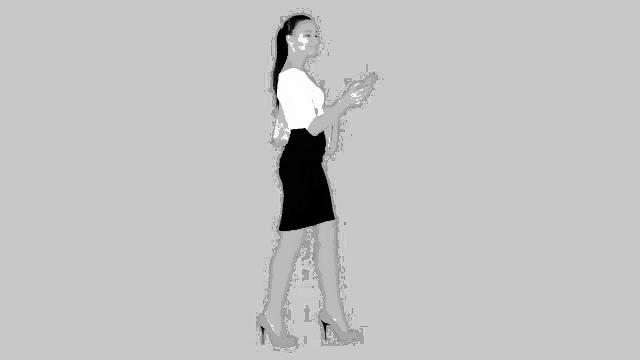berjalan: (259, 9, 375, 344)
